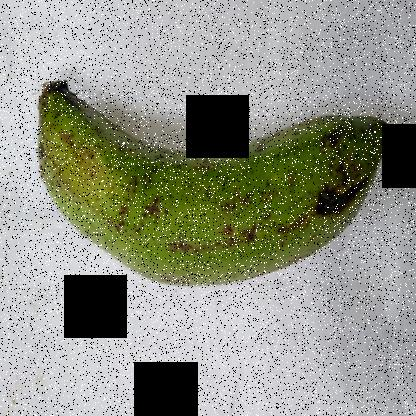rotten: (307, 140, 380, 241)
unripe: (17, 67, 390, 330)
